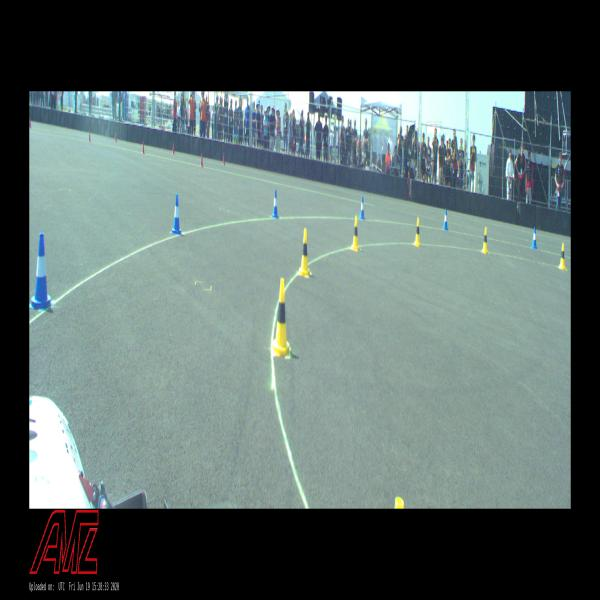blue_cone: (30, 233, 53, 311), (171, 193, 182, 235), (272, 189, 279, 219), (532, 226, 538, 250), (360, 196, 365, 220), (443, 208, 448, 231)
yellow_cone: (272, 278, 290, 358), (298, 227, 310, 276), (351, 214, 359, 251), (413, 217, 421, 247), (558, 242, 566, 271), (482, 226, 488, 254)
